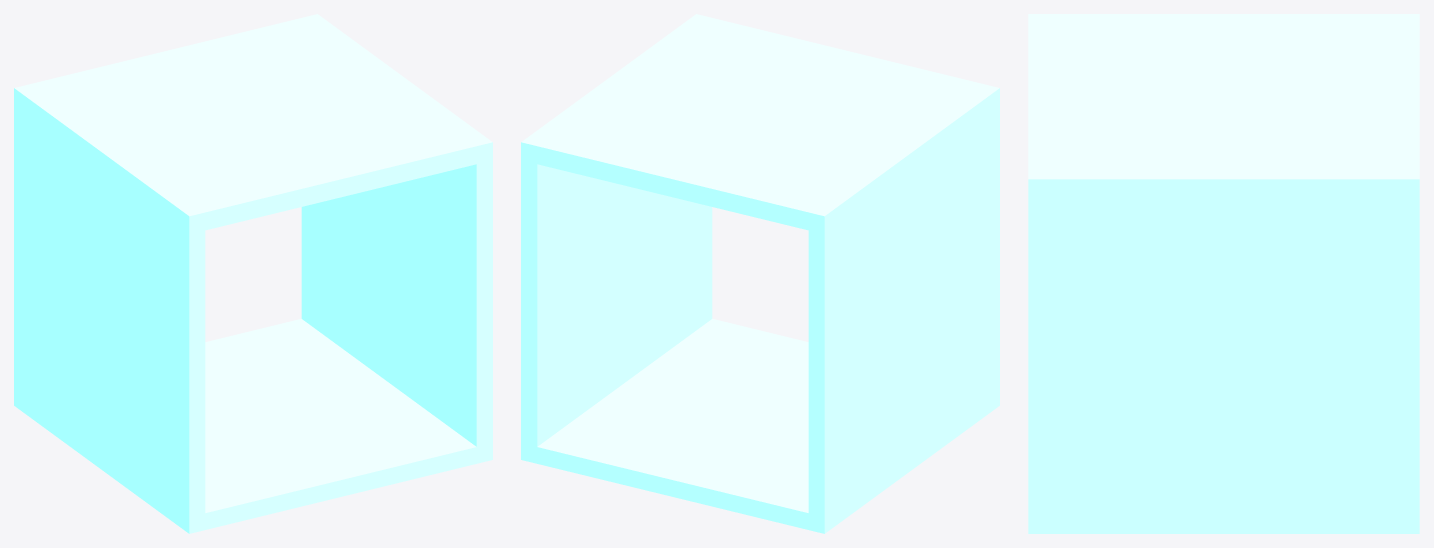
The model's file is hole.fbx.
3 renders of one model, left to right at view 1: azimuth 30°, elevation 25°; view 2: azimuth 150°, elevation 25°; view 3: azimuth 270°, elevation 25°, orthographic. The views are drawn at different scales.
Parts seen in each view (by area): view 1: Cube; view 2: Cube; view 3: Cube.
Boxes of the visible parts, <box> form: Cube: <box>14,14,492,533</box>; Cube: <box>521,14,999,533</box>; Cube: <box>1028,14,1419,533</box>.
Size of the model in its own units: 2 by 2 by 2.
